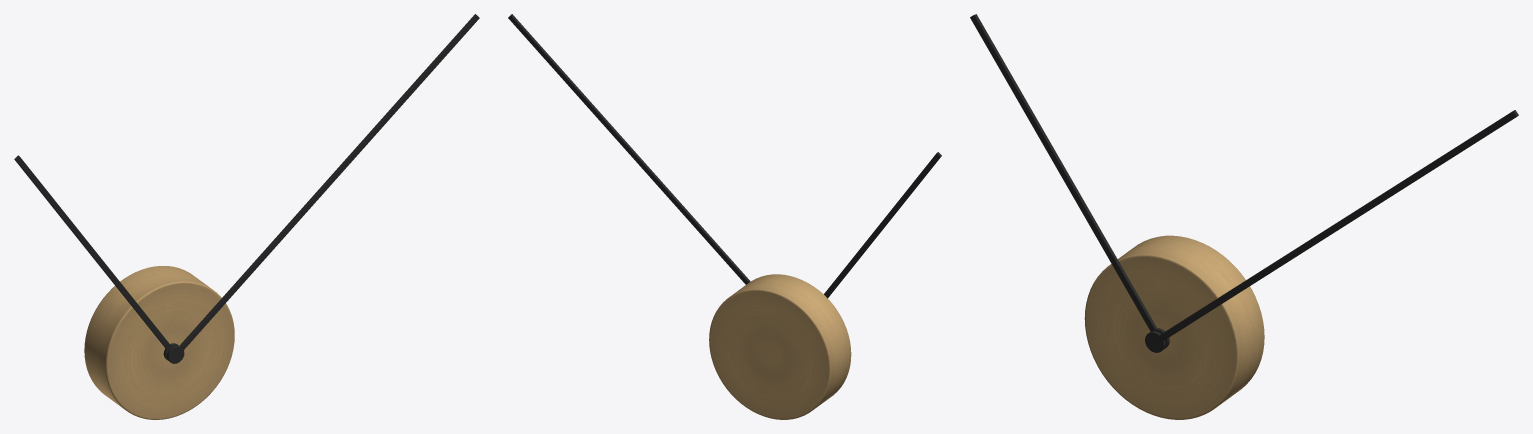
File: Less_Wall_Clock.glb
3 renders of one model, left to right at view 1: azimuth 30°, elevation 25°; view 2: azimuth 150°, elevation 25°; view 3: azimuth 330°, elevation 25°, orthographic. The views are drawn at different scales.
Parts seen in each view (by area): view 1: BP_Less_Wall_Clock; view 2: BP_Less_Wall_Clock; view 3: BP_Less_Wall_Clock.
Boxes of the visible parts, bbox=[...] form: BP_Less_Wall_Clock: bbox=[14, 14, 479, 419]; BP_Less_Wall_Clock: bbox=[508, 14, 941, 419]; BP_Less_Wall_Clock: bbox=[970, 14, 1518, 419].
Size of the model in its own units: 0.3072 by 0.213 by 0.0326.
Materials: 2 (1 with a texture image).
